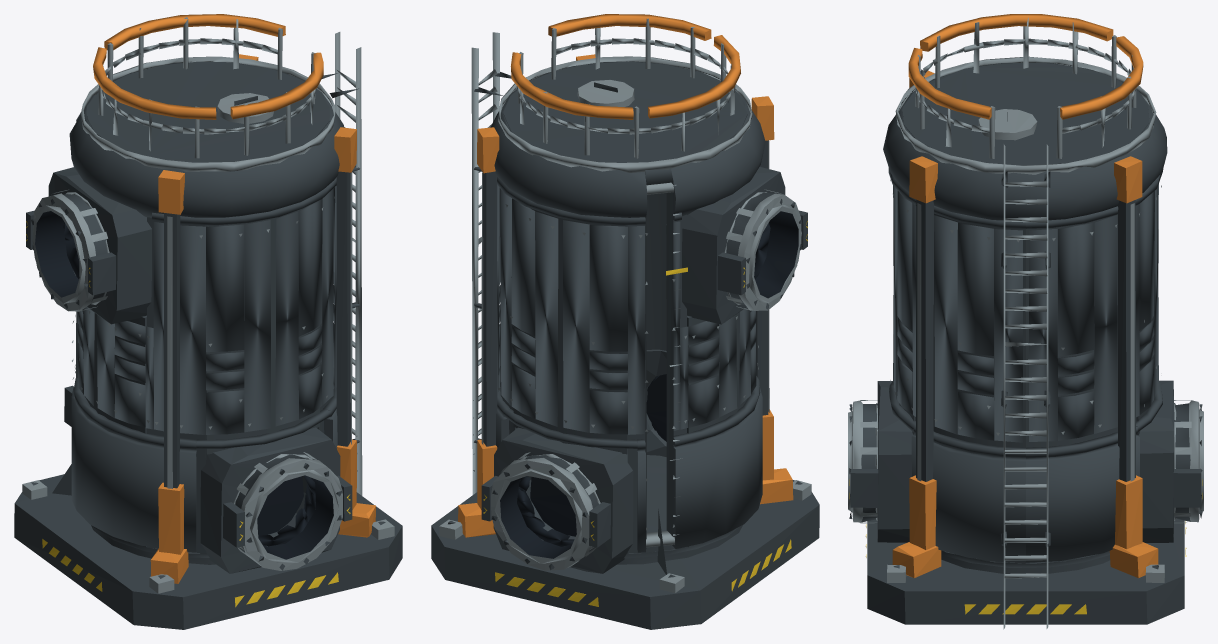
The model's file is SM_AdvancedFluidBuffer_LOD2.fbx.
3 renders of one model, left to right at view 1: azimuth 30°, elevation 25°; view 2: azimuth 150°, elevation 25°; view 3: azimuth 270°, elevation 25°, orthographic.
Parts seen in each view (by area): view 1: SM_OverflowTank_LOD2; view 2: SM_OverflowTank_LOD2; view 3: SM_OverflowTank_LOD2.
Boxes of the visible parts, left/top/right/bottom form: SM_OverflowTank_LOD2: left=14, top=14, right=402, bottom=629; SM_OverflowTank_LOD2: left=431, top=14, right=819, bottom=629; SM_OverflowTank_LOD2: left=848, top=14, right=1203, bottom=629.
Size of the model in its own units: 564 by 580 by 893.
